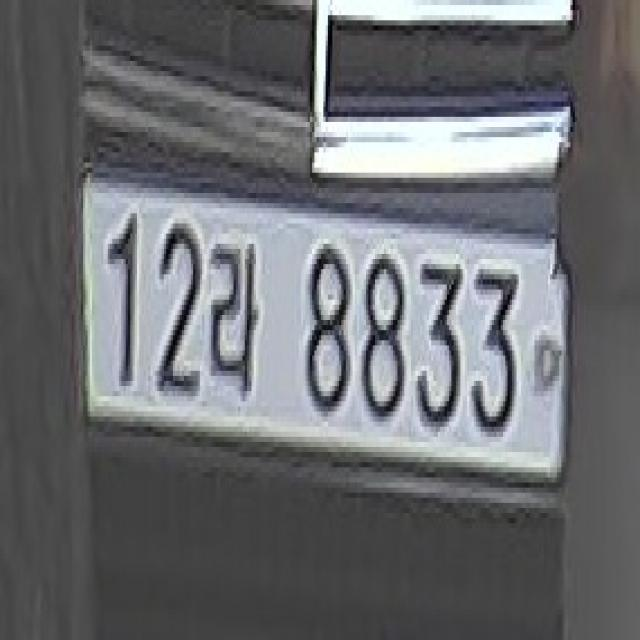1: (103, 203, 146, 401)
2: (150, 214, 209, 412)
3: (470, 249, 526, 447), (411, 249, 465, 447)
8: (298, 224, 354, 426), (357, 234, 409, 432)
la: (209, 239, 263, 411)
license_plate: (70, 157, 572, 528)
